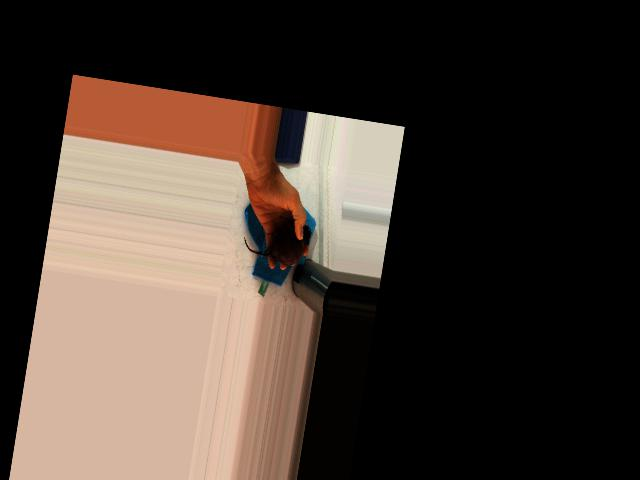beet: (240, 212, 312, 268)
